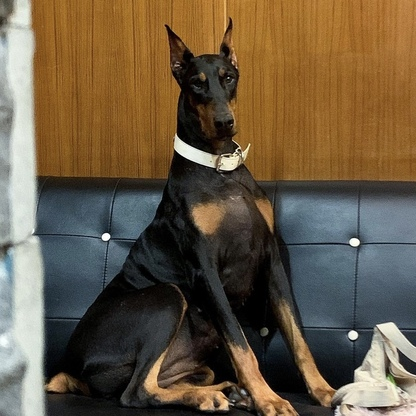doberman: (151, 13, 347, 416)
